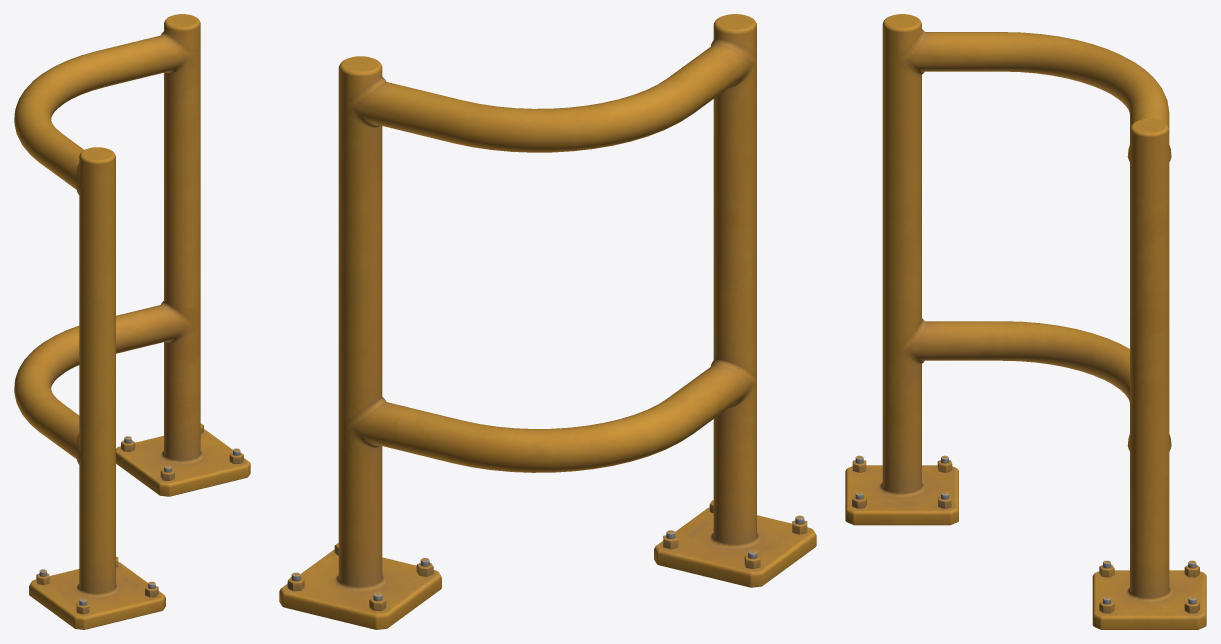
The model's file is metal_a03.glb.
3 views of the same model, side by side, from view 1: azimuth 30°, elevation 25°; view 2: azimuth 150°, elevation 25°; view 3: azimuth 270°, elevation 25° (orthographic). The views are drawn at different scales.
Visible parts, largest first — view 1: sm_barrier_fence_a03_mesh_00 (×2); view 2: sm_barrier_fence_a03_mesh_00 (×2); view 3: sm_barrier_fence_a03_mesh_00 (×2).
Boxes of the visible parts, left/top/right/bottom form: sm_barrier_fence_a03_mesh_00 (×2): left=14, top=14, right=250, bottom=629; sm_barrier_fence_a03_mesh_00 (×2): left=279, top=14, right=816, bottom=629; sm_barrier_fence_a03_mesh_00 (×2): left=845, top=14, right=1206, bottom=629.
Bounding box in the file's own units: 0.7311 × 1.07 × 0.7299.
Materials: 1 (1 with a texture image).
